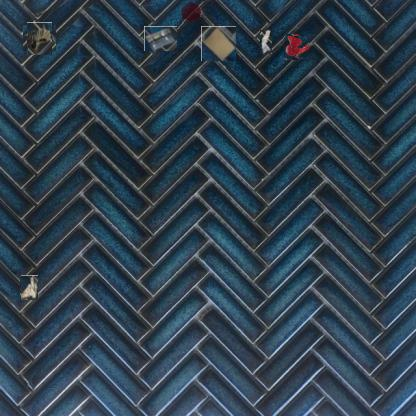dirty: (201, 26, 236, 61), (25, 24, 54, 53), (144, 26, 177, 51), (20, 275, 38, 300), (260, 30, 272, 54)
liquid: (284, 35, 308, 59), (180, 2, 204, 24)
